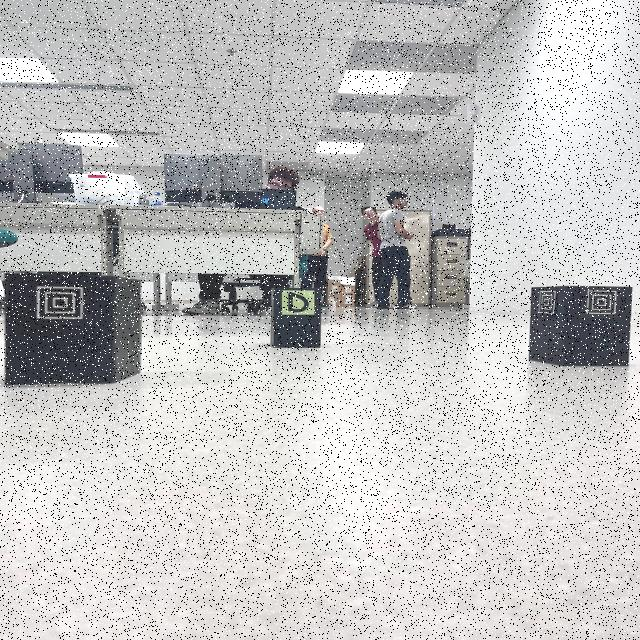D_id23: (281, 290, 315, 315)
bullseye-id10: (28, 281, 92, 326), (582, 287, 623, 319), (536, 288, 559, 319)
